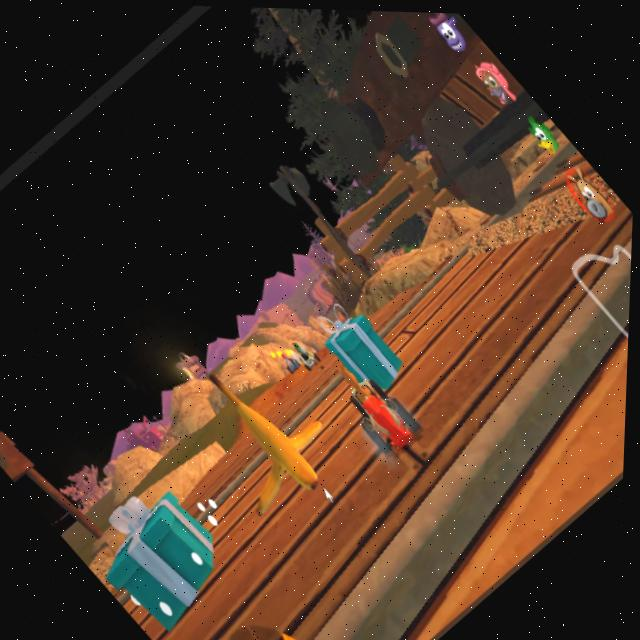bonus: (74, 465, 248, 640), (312, 293, 418, 400)
enemy_kart: (289, 331, 330, 373), (278, 345, 308, 376)
obstacle: (173, 333, 370, 533)
